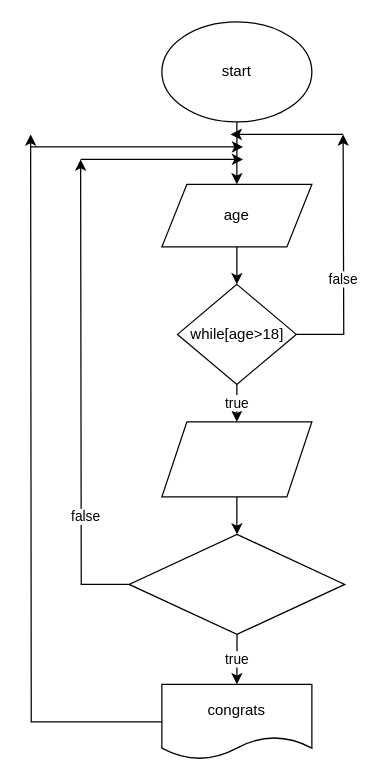
This 379x781 diagram has some shape labels left out. Each missing label, with the centre of its shape:
english score: (236,459)
while[english score>50]: (236,583)
